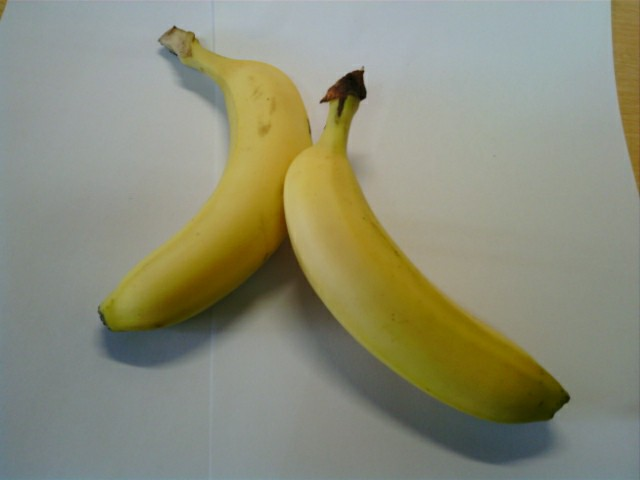fresh_banana: (281, 137, 572, 428), (91, 55, 309, 334)
